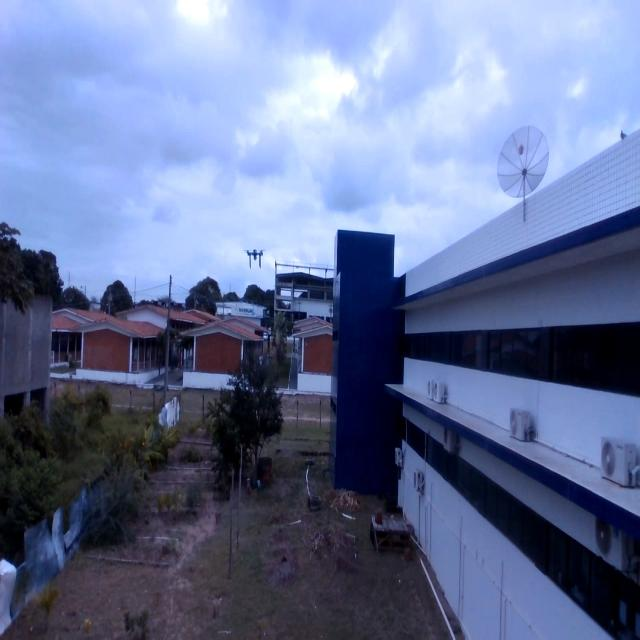-uav-: (242, 242, 270, 272)
